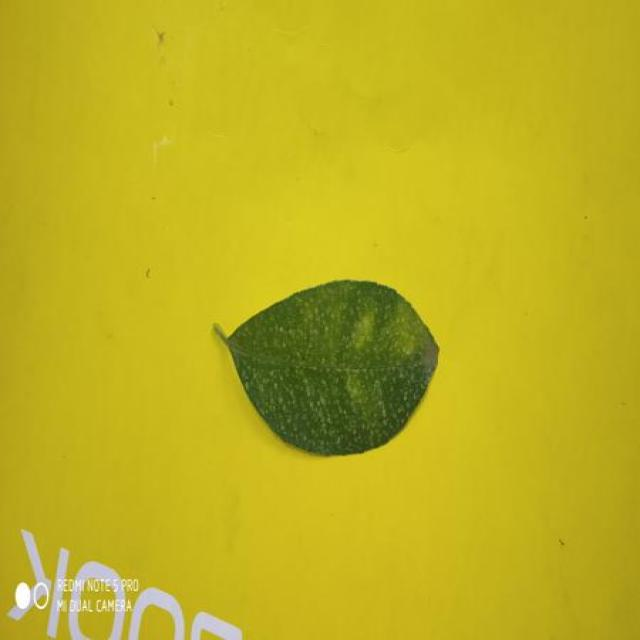Citrus greasy spot: (215, 280, 438, 454)
